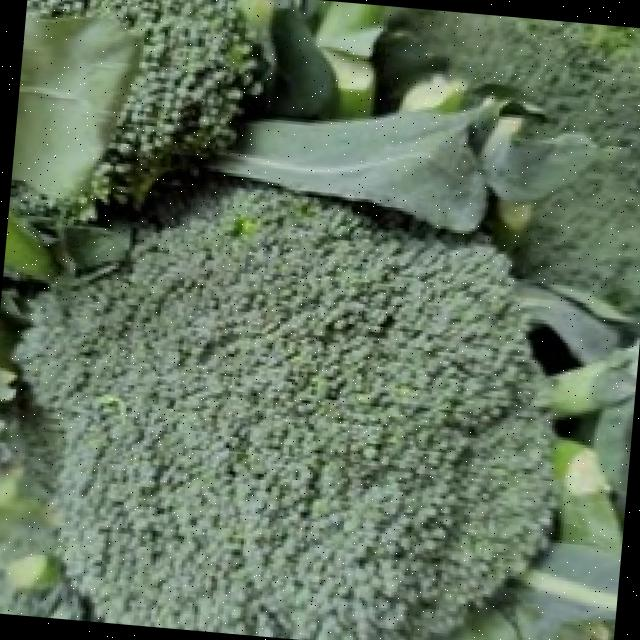Broccoli: (21, 188, 552, 640), (22, 190, 551, 640), (375, 7, 640, 310), (377, 7, 640, 310), (29, 0, 264, 216), (29, 0, 264, 216)
